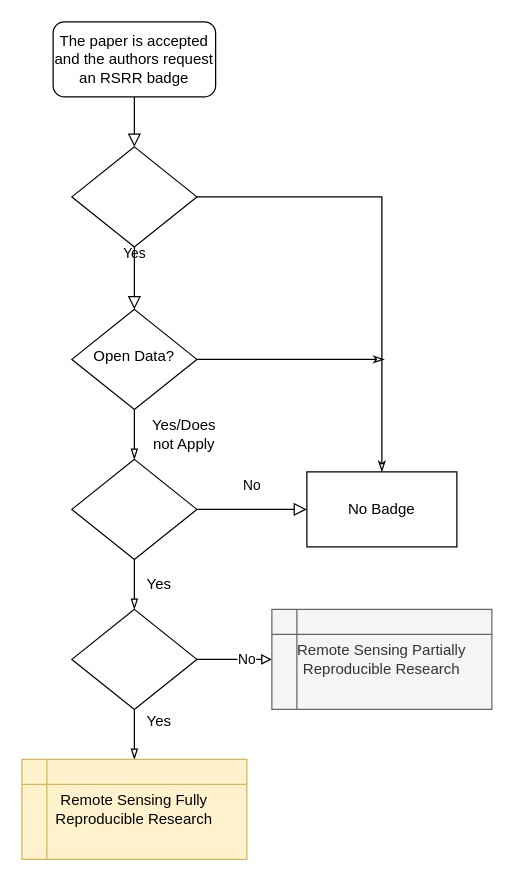
The diagram is 514 pixels wide and 881 high, and some of its shapes have lost their labels. Here are the shapes that lost their labels. From the top down, the centre of each, then its label:
At [134,196]: "Web page?".
At [134,508]: "Complete code?".
At [134,658]: "FLOSS?".
